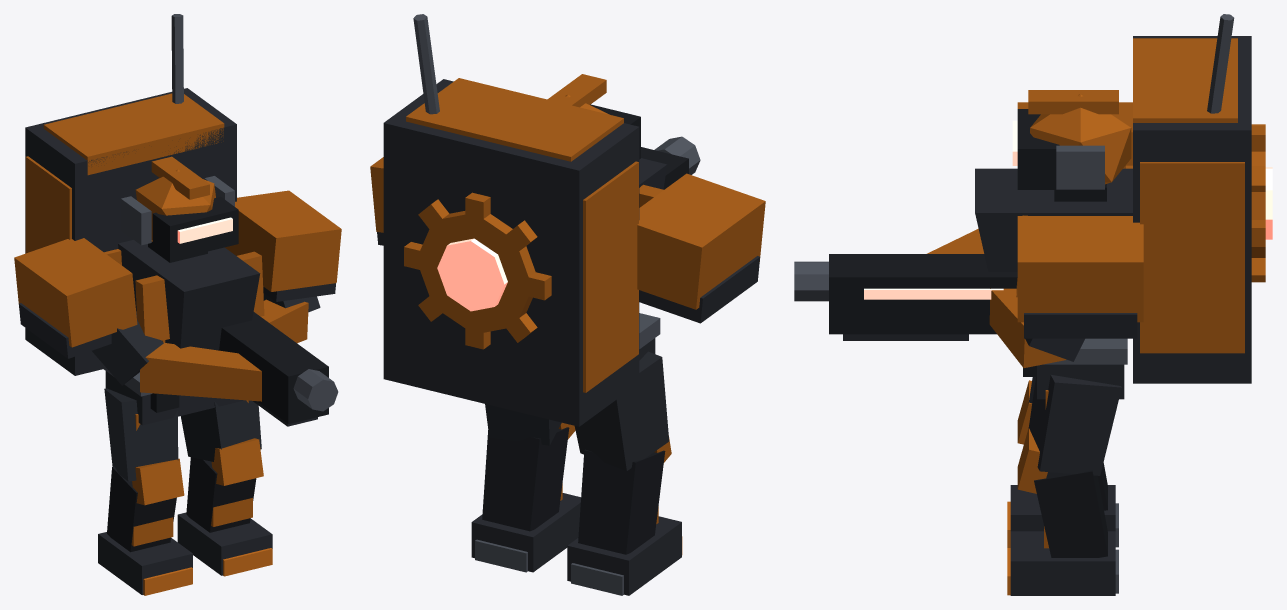
Rendered from engineer.glb.
3 views of the same model, side by side, from view 1: azimuth 30°, elevation 25°; view 2: azimuth 150°, elevation 25°; view 3: azimuth 270°, elevation 25° (orthographic). The views are drawn at different scales.
Parts seen in each view (by area): view 1: EngineerBody, EngineerLegL, EngineerLegR, EngineerGlow; view 2: EngineerBody, EngineerLegL, EngineerLegR, EngineerGlow; view 3: EngineerBody, EngineerLegR, EngineerLegL, EngineerGlow.
Part boxes in pixels (bbox=[...]): EngineerBody: bbox=[14, 14, 341, 426]; EngineerLegL: bbox=[98, 388, 192, 595]; EngineerLegR: bbox=[177, 400, 272, 576]; EngineerGlow: bbox=[177, 217, 232, 243]; EngineerBody: bbox=[370, 14, 765, 426]; EngineerLegL: bbox=[567, 351, 682, 595]; EngineerLegR: bbox=[471, 404, 580, 572]; EngineerGlow: bbox=[437, 238, 507, 311]; EngineerBody: bbox=[794, 14, 1265, 399]; EngineerLegR: bbox=[1007, 375, 1121, 595]; EngineerLegL: bbox=[1007, 377, 1118, 547]; EngineerGlow: bbox=[864, 120, 1272, 299].
Size of the model in its own units: 1.09 by 1.82 by 1.37.
